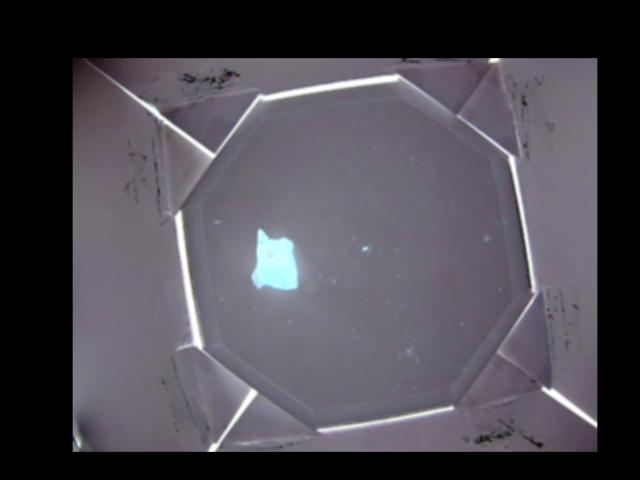Brisk: (250, 230, 297, 290)
